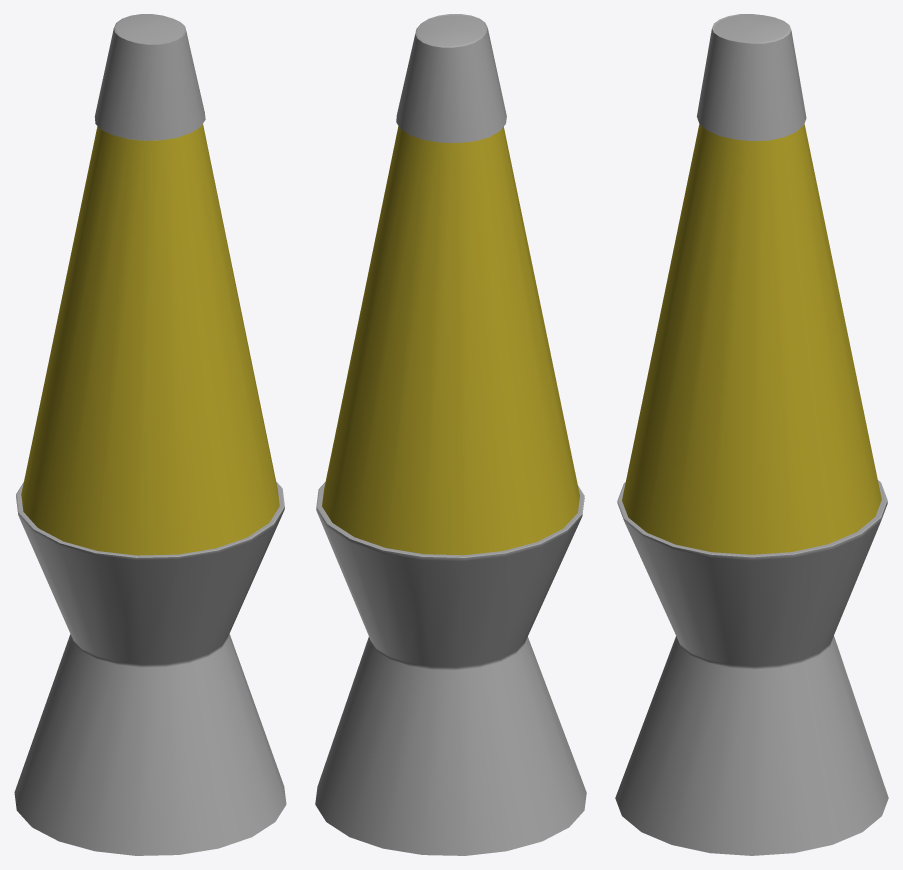
File: Lavalamp.fbx
3 renders of one model, left to right at view 1: azimuth 30°, elevation 25°; view 2: azimuth 150°, elevation 25°; view 3: azimuth 270°, elevation 25°, orthographic.
Parts seen in each view (by area): view 1: Lamp, Case; view 2: Lamp, Case; view 3: Lamp, Case.
Part boxes in pixels (x1,y1,x2,y2): Lamp: (21,124,279,555); Case: (14,14,286,855); Lamp: (322,126,579,555); Case: (315,14,586,855); Lamp: (622,124,881,554); Case: (615,14,888,855).
Bounding box in the file's own units: 6.5 × 20.25 × 6.5.
